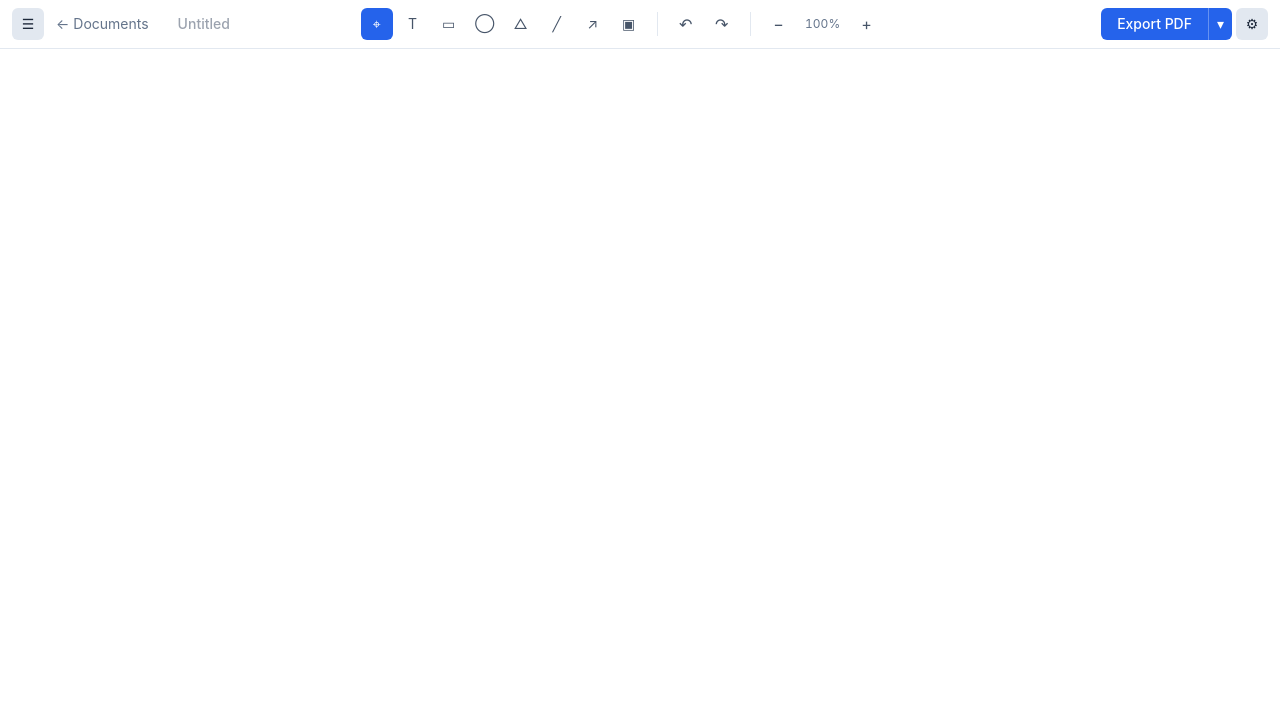
Test: export menu › closes on a click elsewhere
Click the button named "More export options". click: (1220, 24)
box: [1208, 8, 1232, 40]
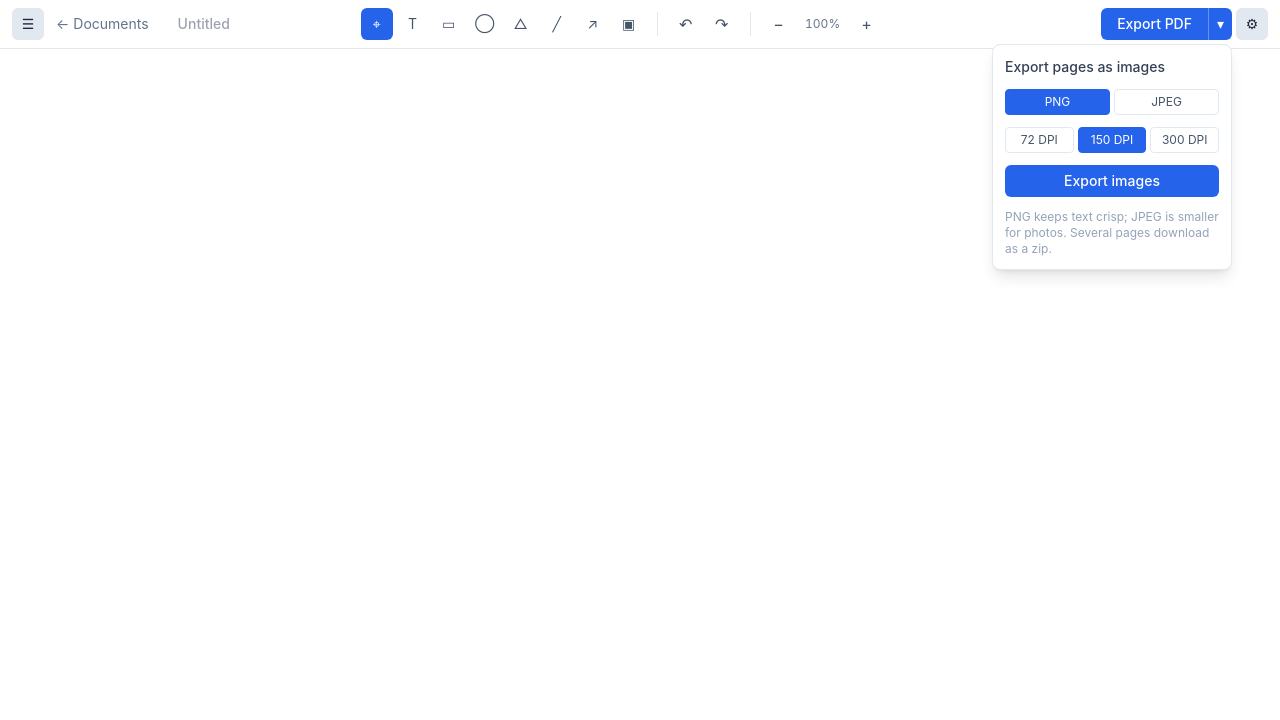
mousedown rather than pointerdown: jsdom has no PointerEvent.
Press the mouse on the element that starts with "Documents" at (640, 360), box [0, 0, 1279, 719]
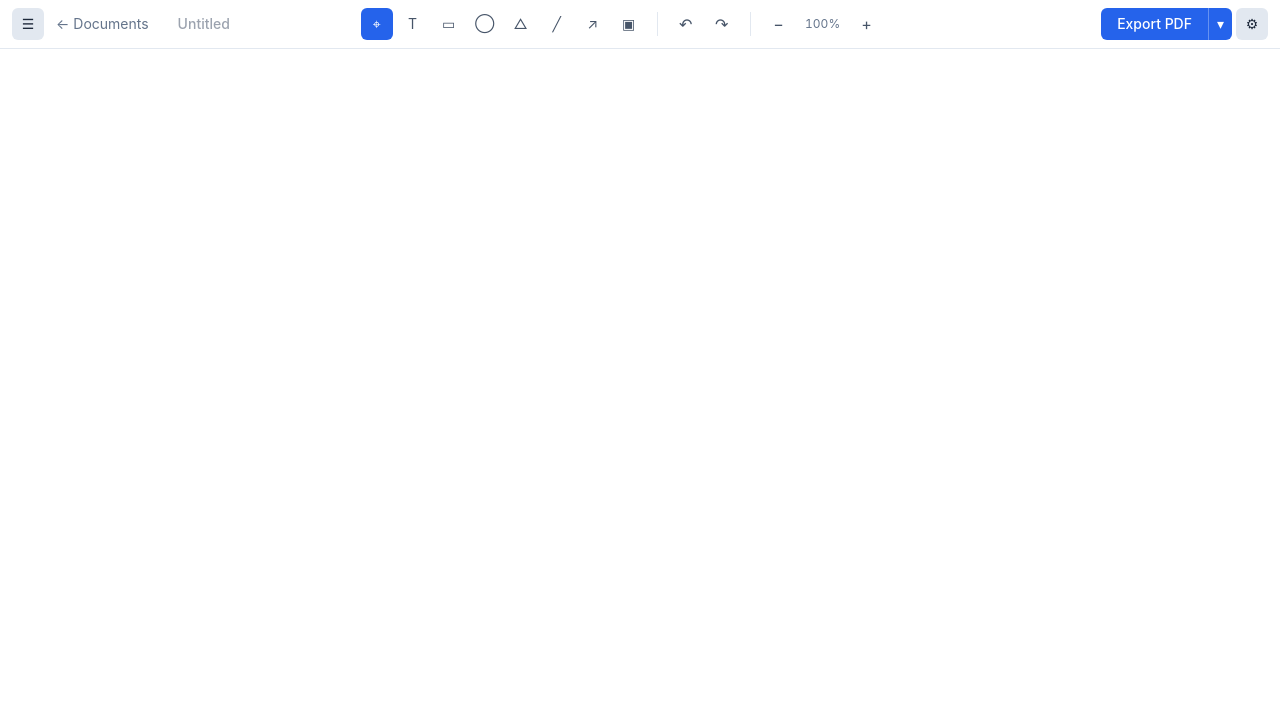
Check: the button "Export images" is gone
